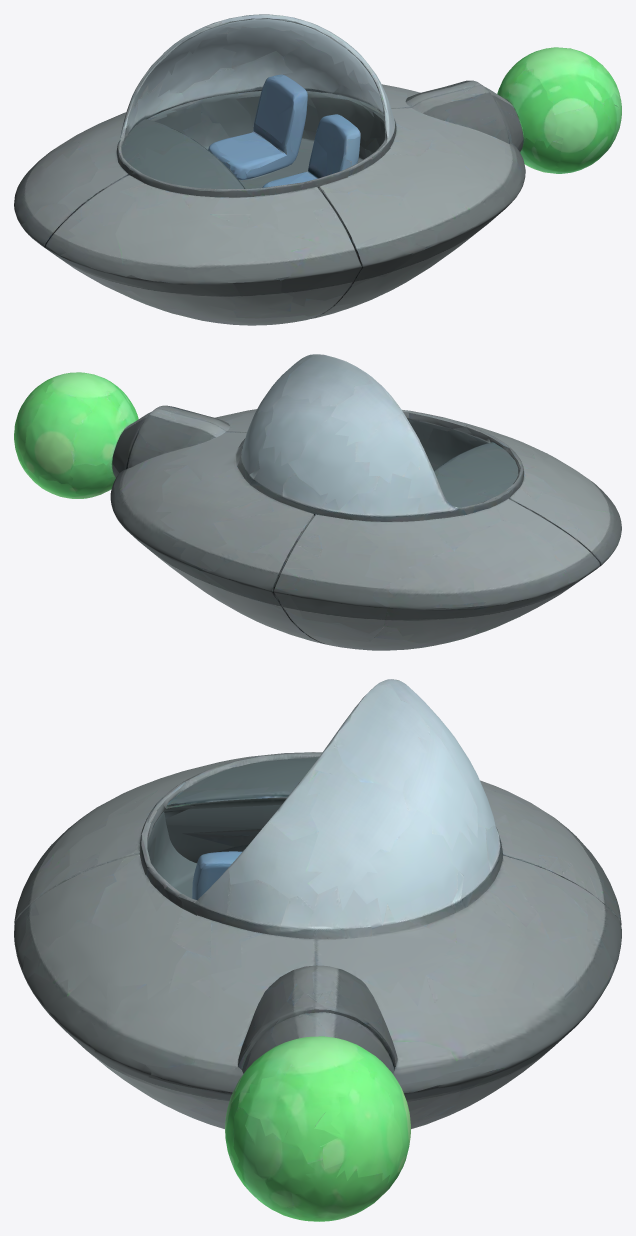
File: cruiser.glb
3 renders of one model, top to bottom at view 1: azimuth 30°, elevation 25°; view 2: azimuth 150°, elevation 25°; view 3: azimuth 270°, elevation 25°, orthographic. The views are drawn at different scales.
Bounding box in the file's own units: 1.9 × 0.8281 × 1.19.
1 material, 1 textured.
